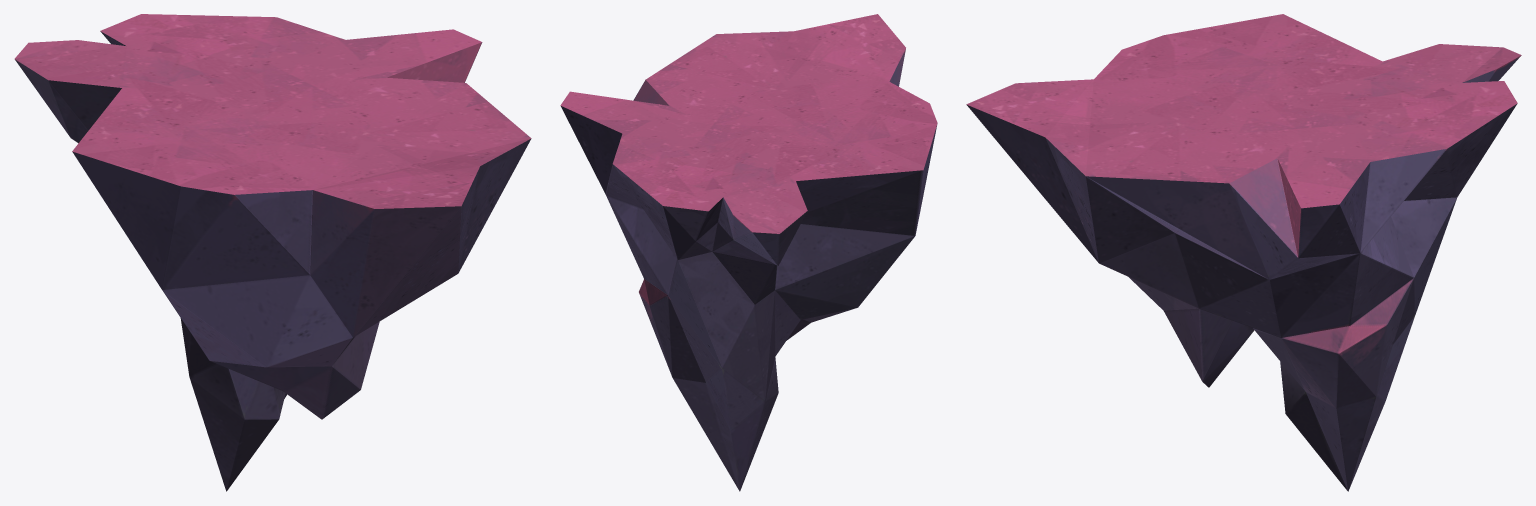
Rendered from floating_rock4.fbx.
3 views of the same model, side by side, from view 1: azimuth 30°, elevation 25°; view 2: azimuth 150°, elevation 25°; view 3: azimuth 270°, elevation 25° (orthographic). The views are drawn at different scales.
Parts seen in each view (by area): view 1: floating_rock4; view 2: floating_rock4; view 3: floating_rock4.
Boxes of the visible parts, bbox=[...] form: floating_rock4: bbox=[14, 14, 531, 491]; floating_rock4: bbox=[560, 14, 937, 491]; floating_rock4: bbox=[966, 14, 1521, 491].
Size of the model in its own units: 0.0764 by 0.0738 by 0.0922.
